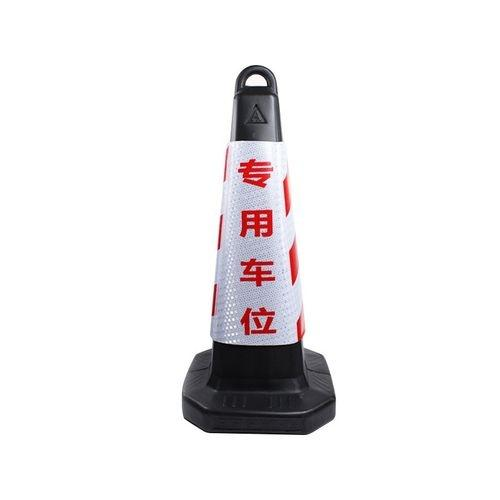cone_barrel: (182, 75, 337, 427)
